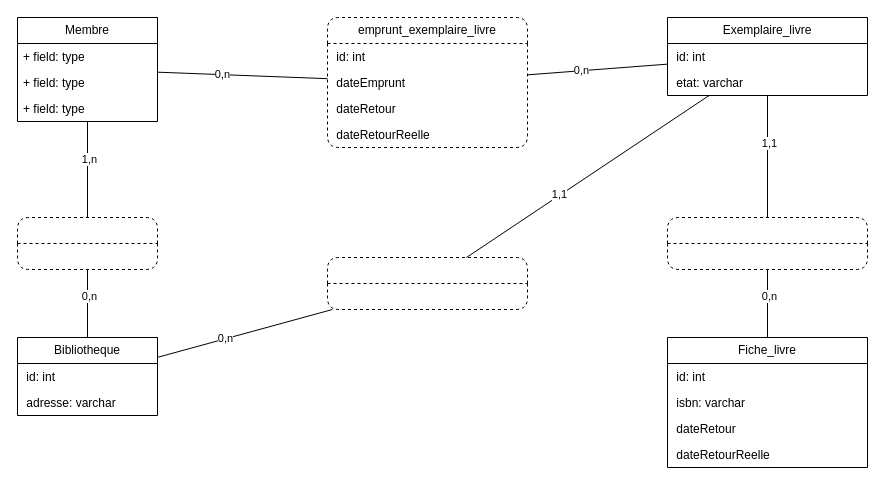
This 885x488 diagram has some shape labels left out. Each missing label, with the centre of its shape:
"adhère" goes at (87,243).
"correspond" goes at (767,243).
"historique_stock" goes at (427,283).
